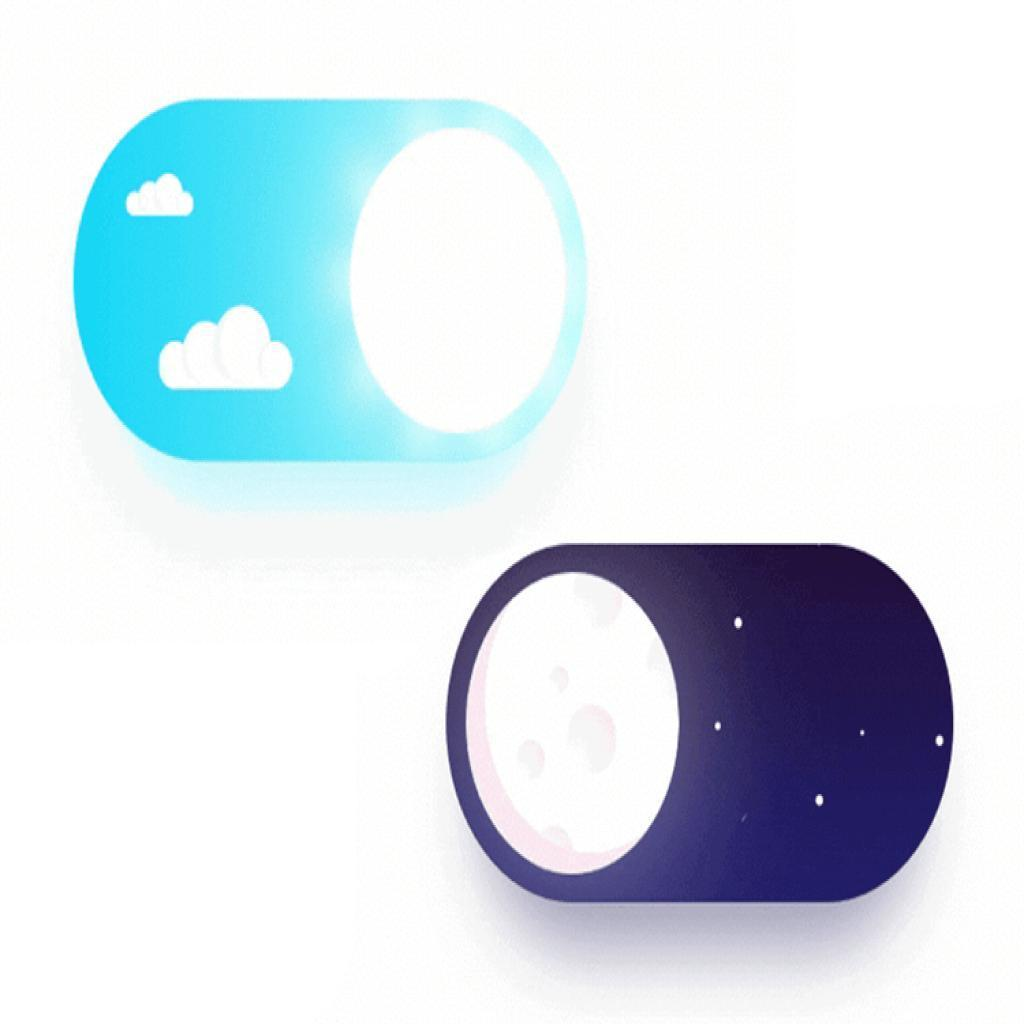switch: (76, 96, 597, 497), (445, 546, 958, 903)
